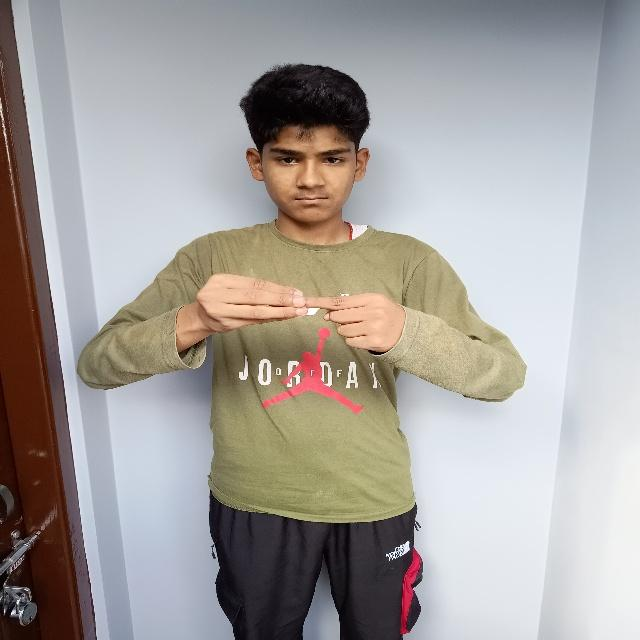Five Fathers: (191, 265, 407, 356)
